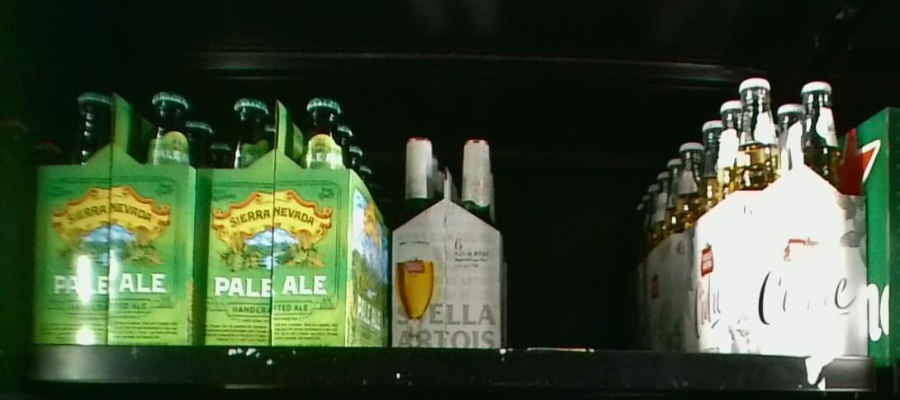bottle: (201, 86, 391, 346), (36, 72, 193, 352), (732, 75, 865, 354), (390, 133, 502, 347)
